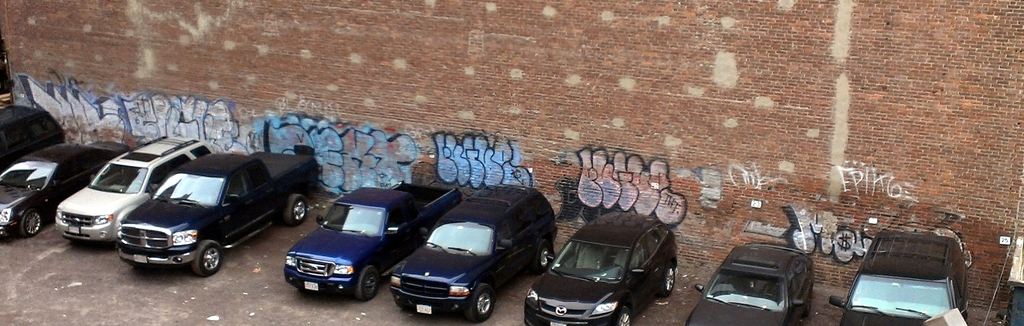Car: (0, 104, 972, 325)
